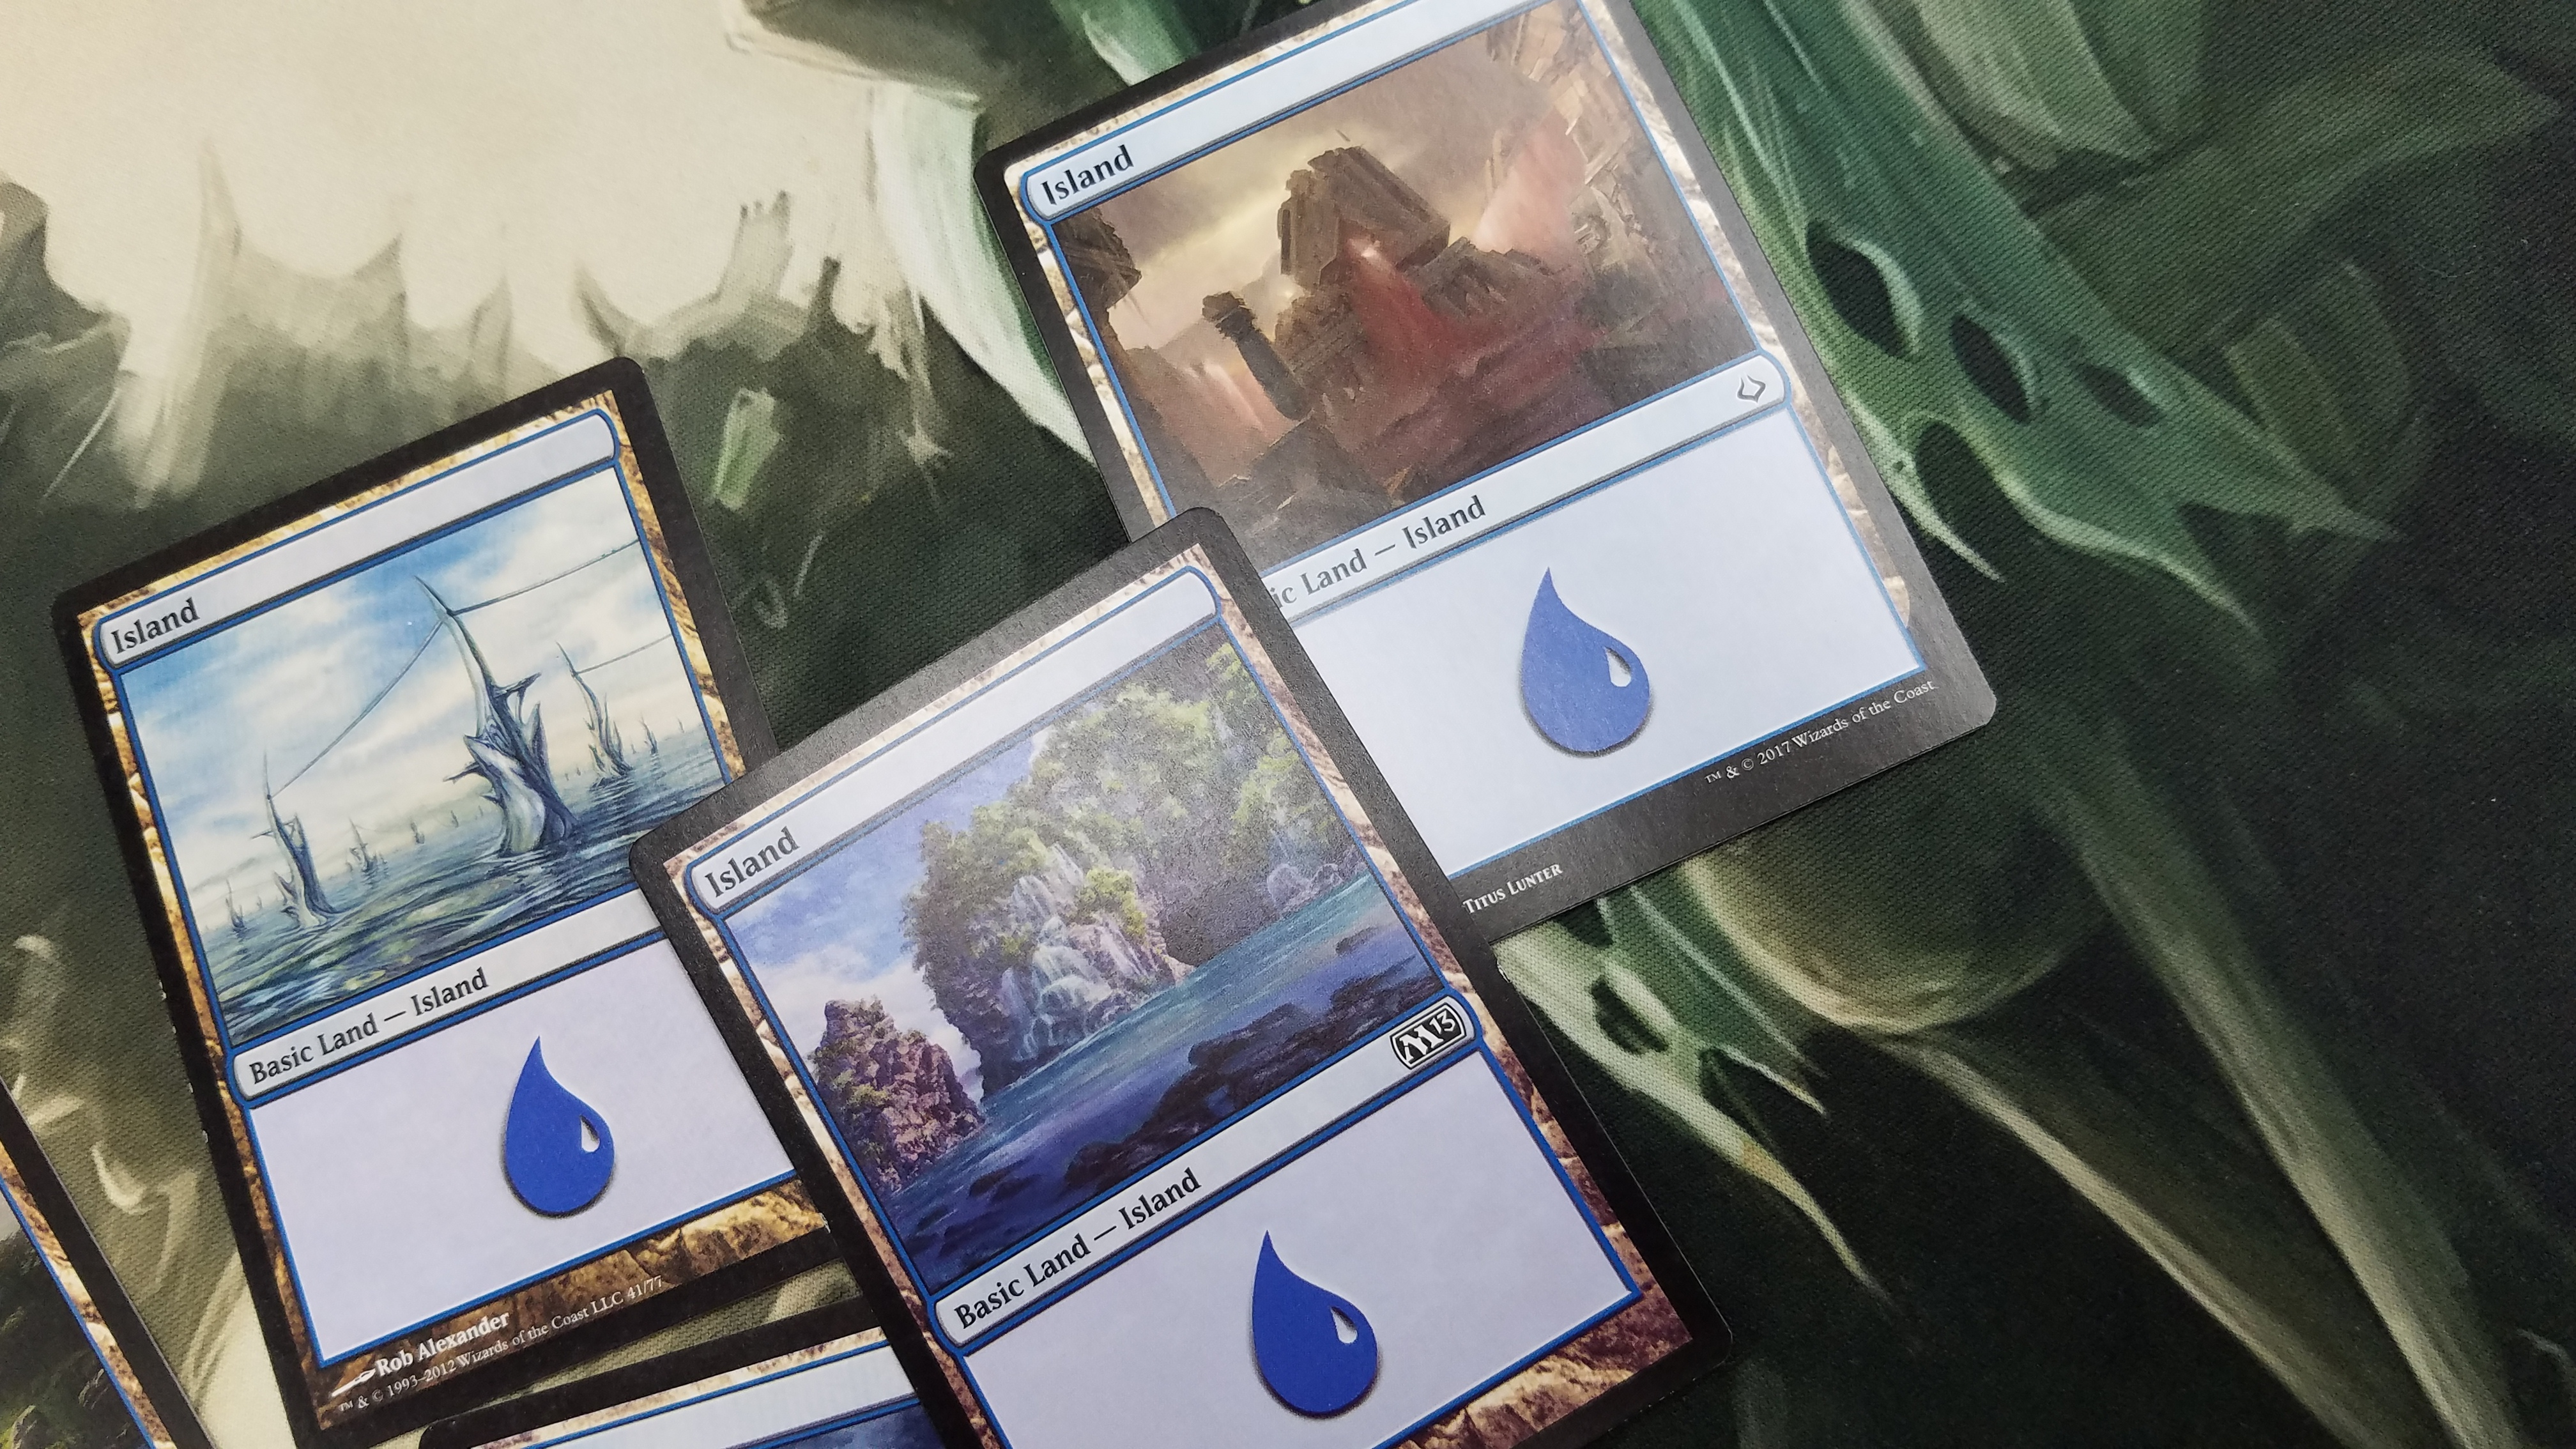Card: (632, 502, 1737, 1449), (943, 0, 2012, 968), (44, 361, 862, 1449)
